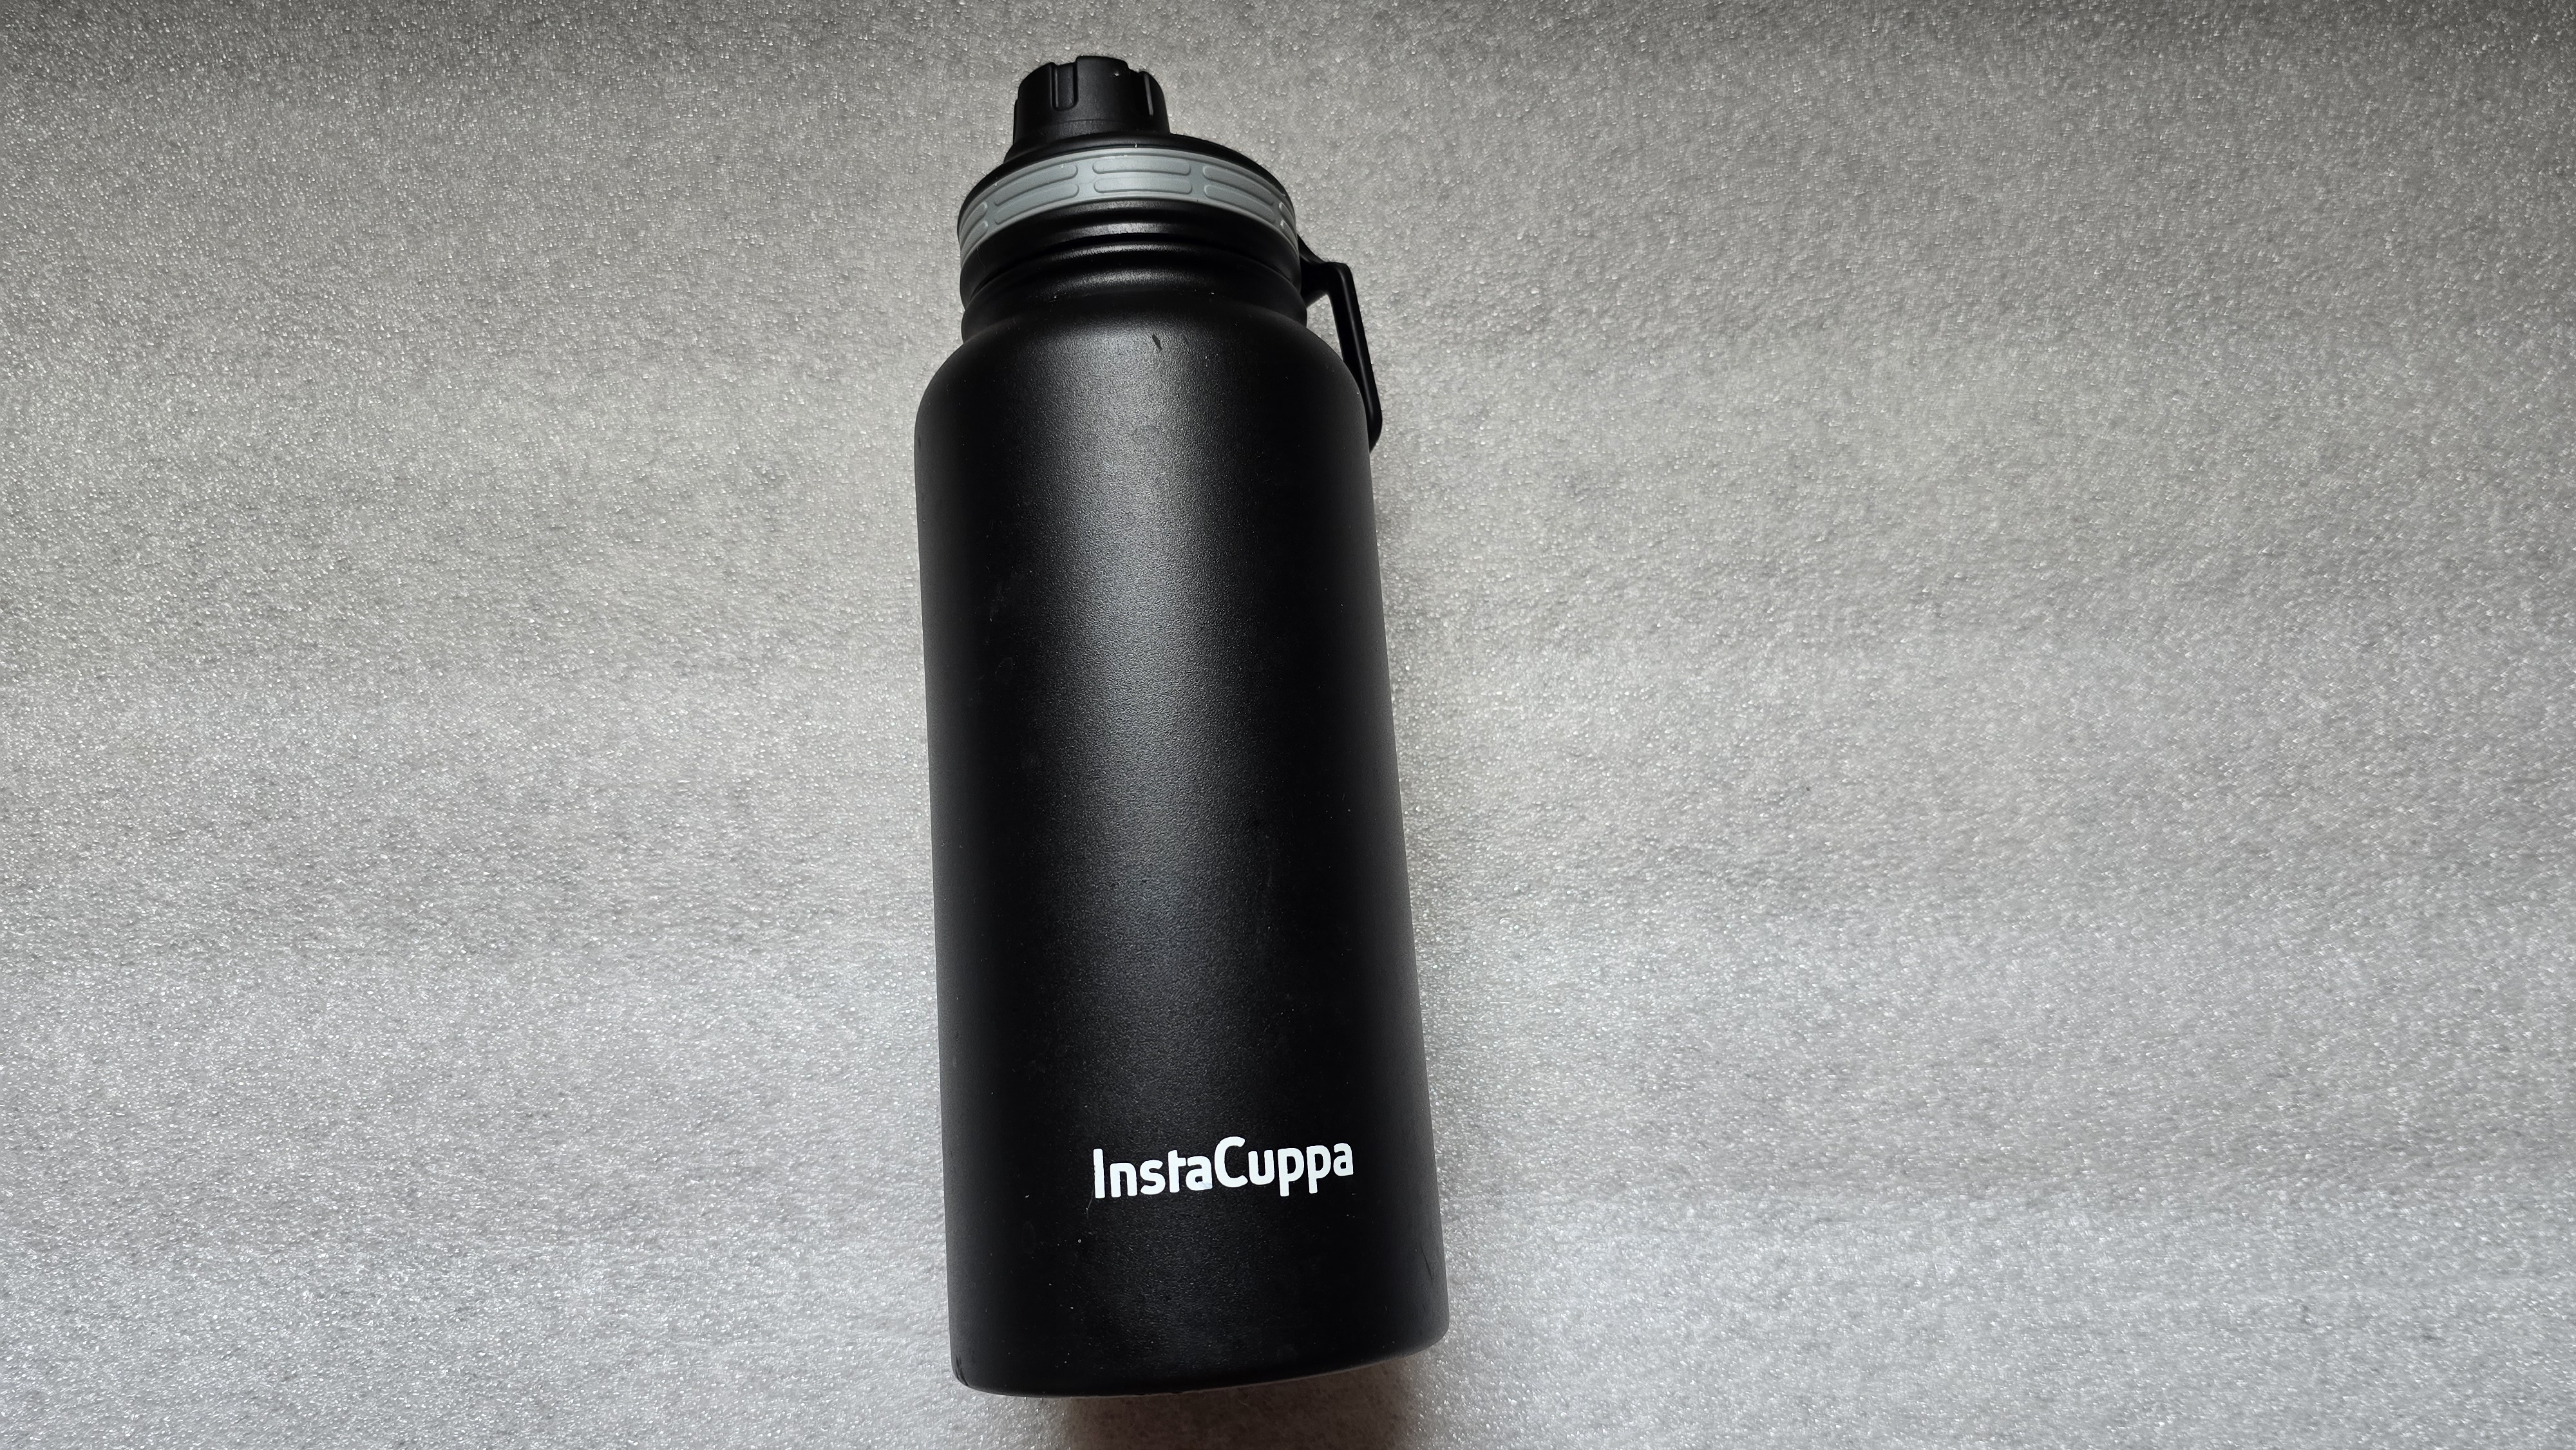bottle: (860, 18, 1507, 1399)
